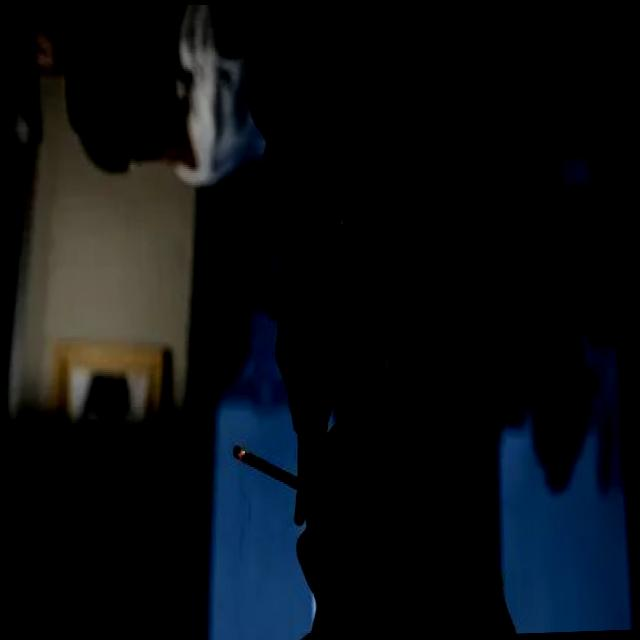smoke: (230, 437, 304, 499)
